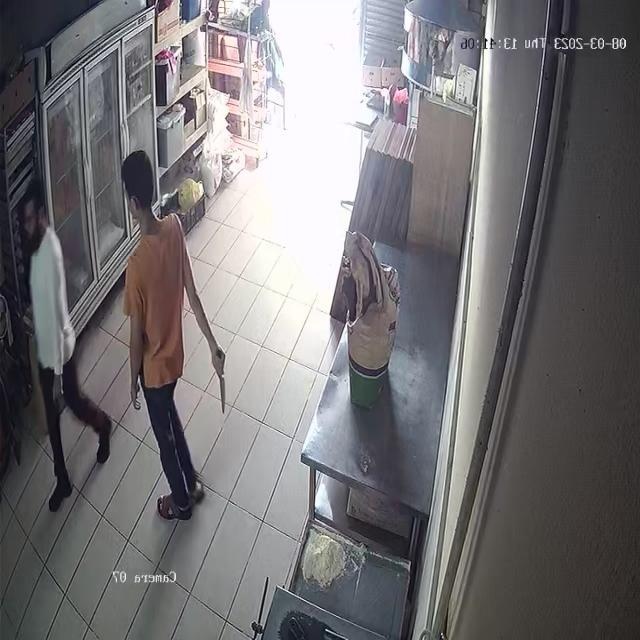Knife: (208, 351, 238, 422)
